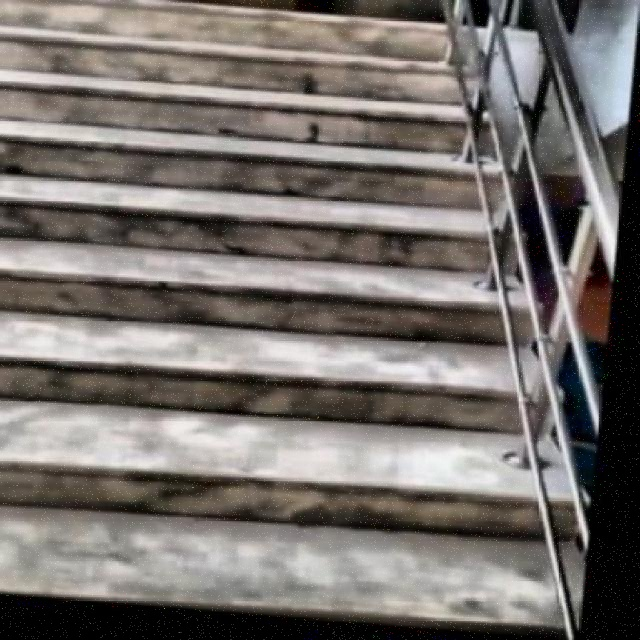stair: (2, 0, 524, 632)
